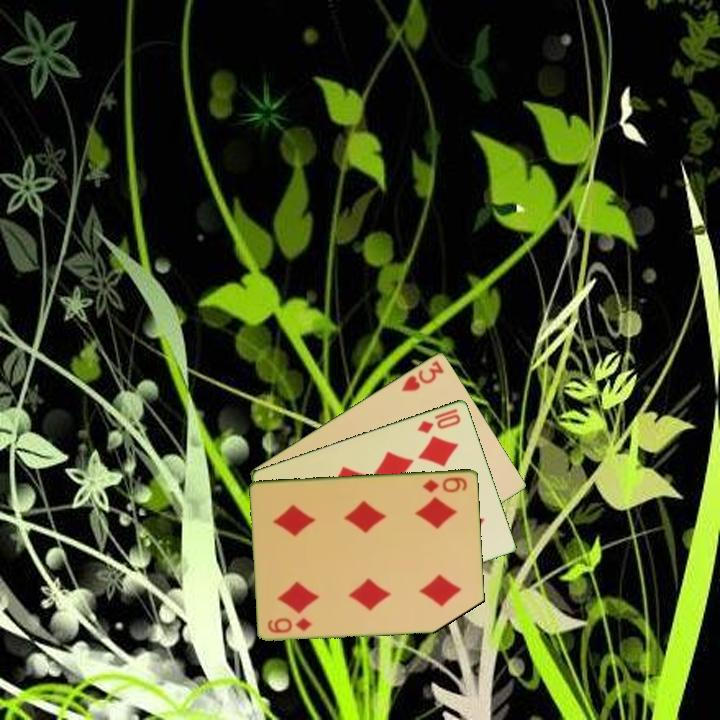10d: (414, 405, 464, 436)
3h: (398, 357, 447, 394)
6d: (419, 473, 470, 495), (264, 614, 315, 636)
